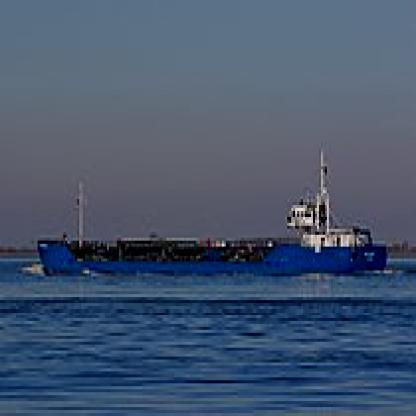Tanker: (38, 222, 387, 291)
